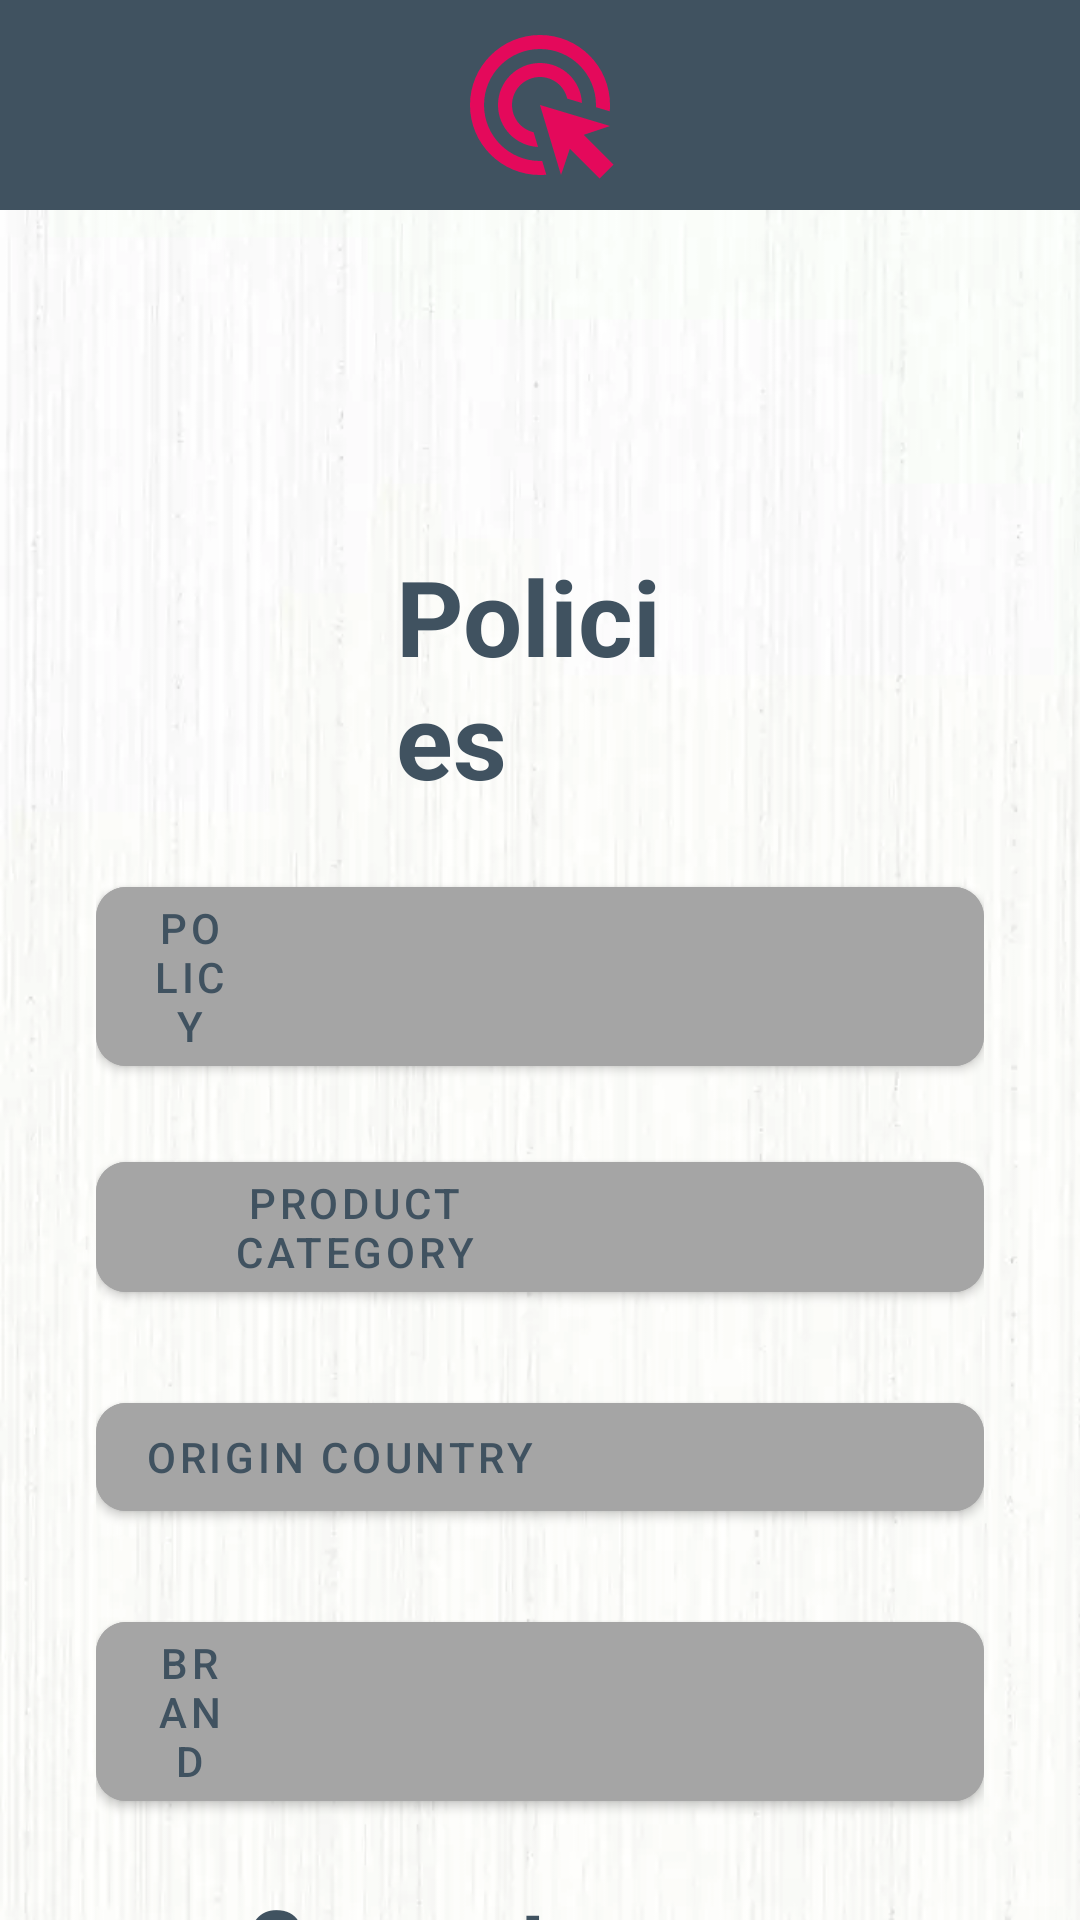

Icons on this 1080px x 1920px Android screen, each with the point to tap as [x,y]:
ads click: [542,107]
